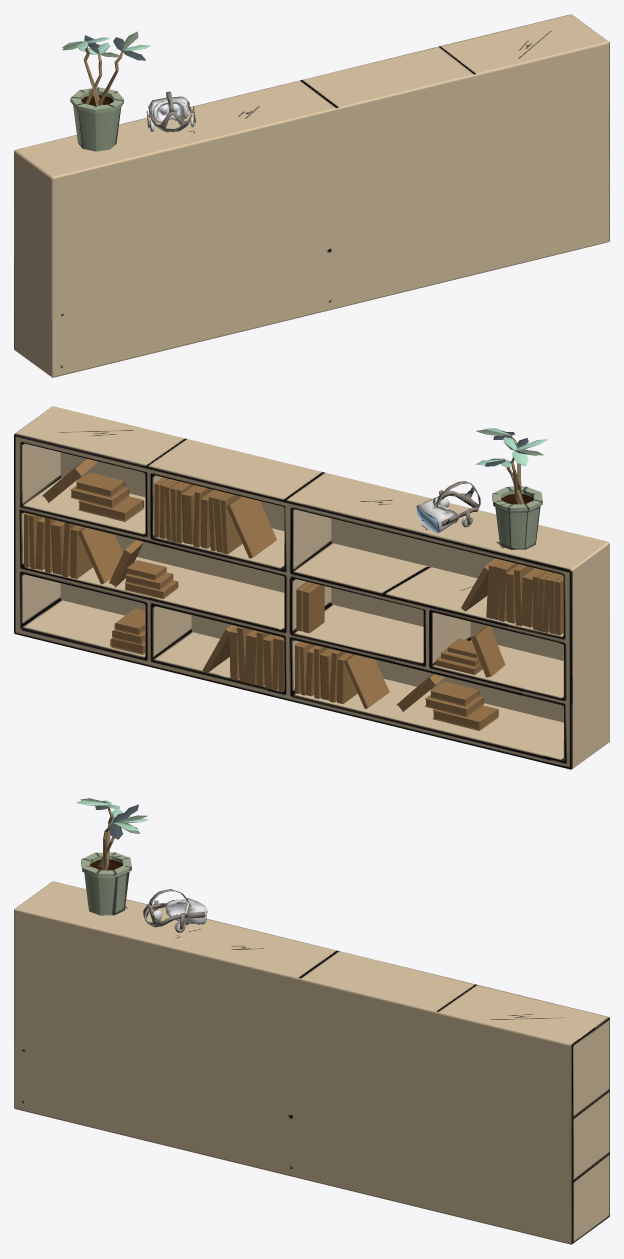
File: shelf04_26.glb
The picture shows the model from 3 angles, top to bottom: view 1: azimuth 30°, elevation 25°; view 2: azimuth 150°, elevation 25°; view 3: azimuth 330°, elevation 25°; orthographic projection.
Parts seen in each view (by area): view 1: Bookshellf, Plant, headset; view 2: Bookshellf, books3.001, books3, books.001, books.003, Plant, books.002, headset, book2.001, book2, book.013, book.010 (+10 smaller); view 3: Bookshellf, Plant, headset.
Part boxes in pixels (x1=…): Bookshellf: x1=14, y1=14, x2=609, y2=377; Plant: x1=62, y1=31, x2=150, y2=151; headset: x1=146, y1=91, x2=195, y2=132; Bookshellf: x1=14, y1=406, x2=609, y2=769; books3.001: x1=154, y1=477, x2=276, y2=558; books3: x1=461, y1=558, x2=563, y2=635; books.001: x1=24, y1=513, x2=122, y2=584; books.003: x1=295, y1=641, x2=389, y2=708; Plant: x1=476, y1=428, x2=547, y2=549; books.002: x1=202, y1=625, x2=284, y2=691; headset: x1=416, y1=481, x2=480, y2=533; book2.001: x1=470, y1=625, x2=505, y2=677; book2: x1=303, y1=583, x2=324, y2=633; book.013: x1=432, y1=705, x2=498, y2=730; book.010: x1=78, y1=496, x2=144, y2=521; Bookshellf: x1=14, y1=881, x2=609, y2=1244; Plant: x1=76, y1=798, x2=147, y2=915; headset: x1=143, y1=889, x2=207, y2=932.
Bounding box in the file's own units: 13.22 × 6.9 × 1.89.
15 materials, 4 textured.
